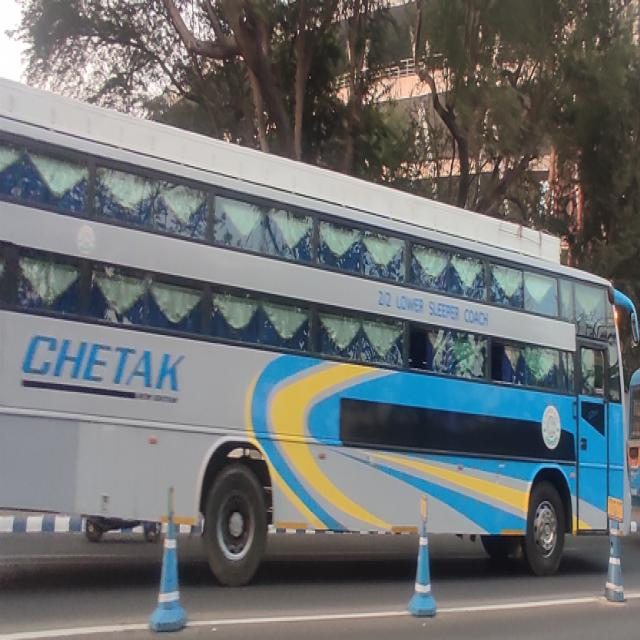bus: (0, 123, 625, 588)
